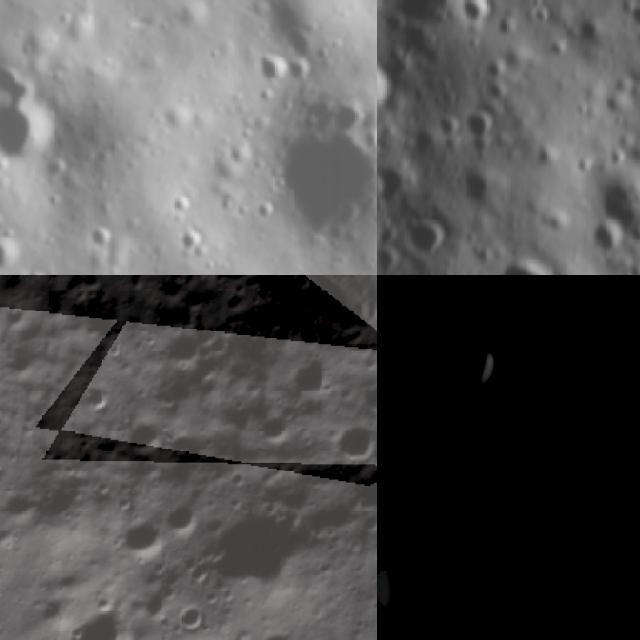crater: (274, 102, 377, 248), (425, 322, 516, 411), (456, 376, 542, 463), (384, 275, 471, 354), (569, 556, 640, 633), (414, 463, 488, 536), (575, 161, 640, 244), (525, 454, 594, 524), (0, 106, 64, 171), (64, 594, 149, 640), (396, 414, 457, 476), (110, 513, 171, 574), (349, 499, 377, 627), (327, 418, 377, 477), (458, 166, 509, 221), (377, 156, 423, 208), (272, 15, 322, 60), (403, 221, 455, 264), (73, 378, 119, 426), (0, 60, 47, 106), (448, 103, 499, 145), (162, 499, 210, 543), (401, 124, 446, 170), (522, 135, 568, 178), (173, 595, 216, 640), (482, 252, 564, 275), (583, 217, 627, 257), (350, 365, 377, 424), (449, 0, 497, 33), (377, 53, 398, 128), (472, 70, 513, 107), (253, 48, 290, 87), (170, 224, 211, 258), (226, 137, 263, 173), (157, 101, 197, 134), (282, 58, 316, 91), (84, 221, 116, 254), (165, 189, 196, 220), (0, 235, 24, 275), (476, 53, 510, 81), (249, 195, 281, 223), (522, 2, 554, 28), (377, 242, 402, 275), (254, 627, 314, 640), (624, 4, 640, 37), (377, 275, 413, 289), (0, 583, 11, 623), (20, 267, 56, 275)
